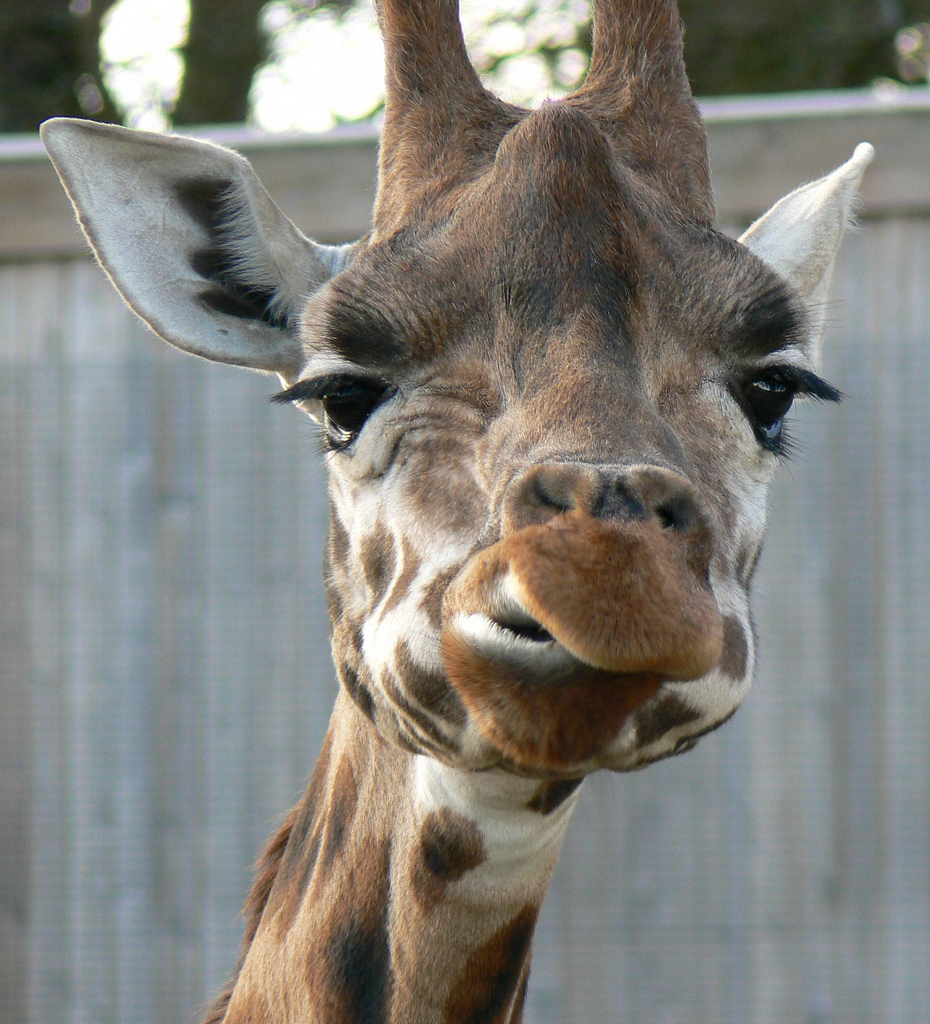giraffe: (100, 43, 887, 985)
